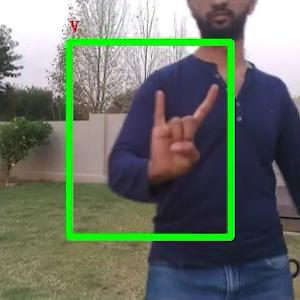takeoff-hand: (141, 76, 223, 186)
